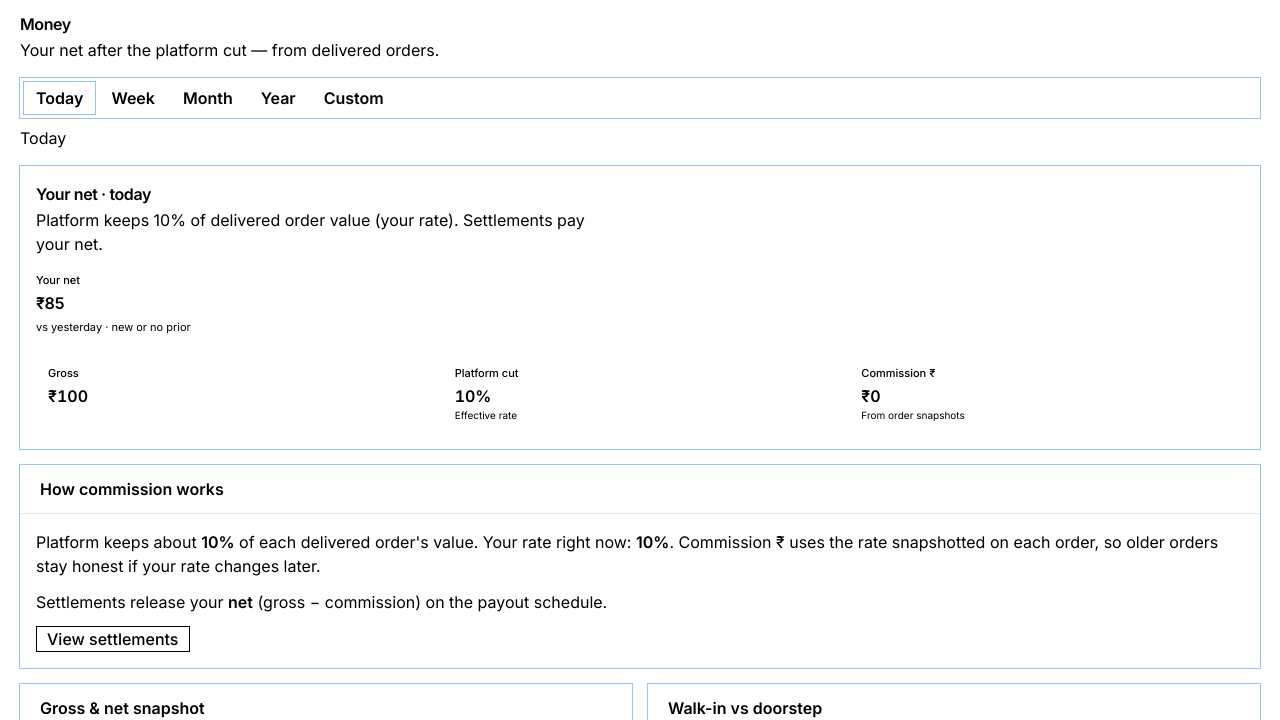
it: PartnerRevenueView › updates displayed net when switching period
This screenshot has width=1280, height=720.
Expected: the element with test id "partner-revenue-net" shows "₹85", [36, 292, 64, 312]
Click the tab with test id "partner-revenue-period-week" at (133, 98), box [99, 82, 167, 114]
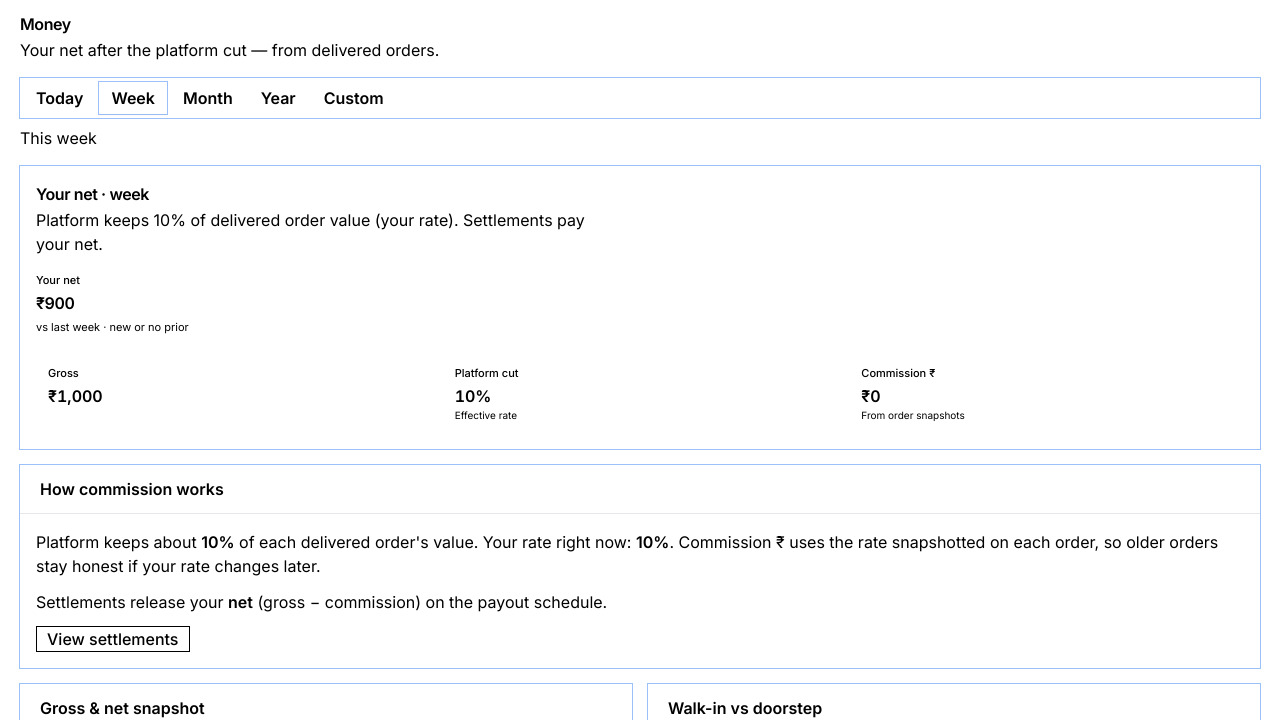
Result: the element with test id "partner-revenue-net" shows "₹900" at [36, 292, 74, 312]
